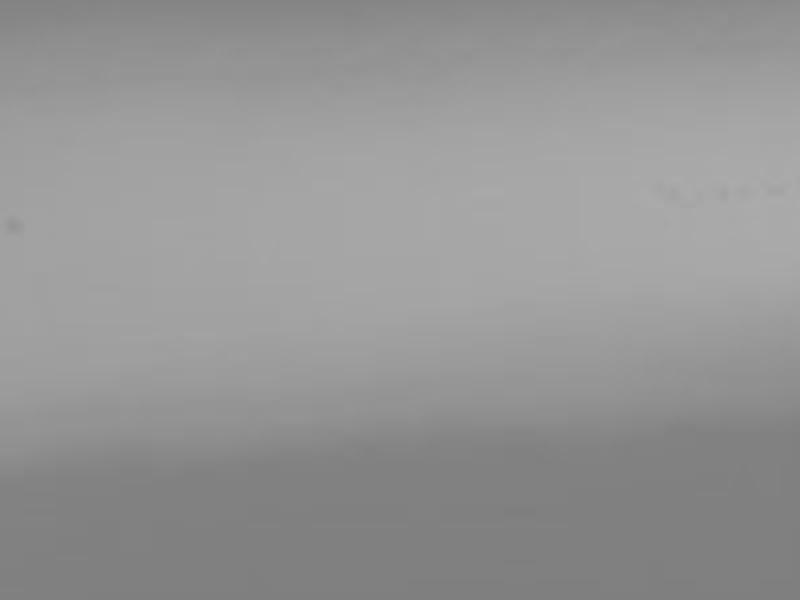defect: (656, 172, 681, 209), (2, 206, 26, 236), (764, 176, 789, 200), (731, 180, 754, 201), (714, 179, 728, 203)
